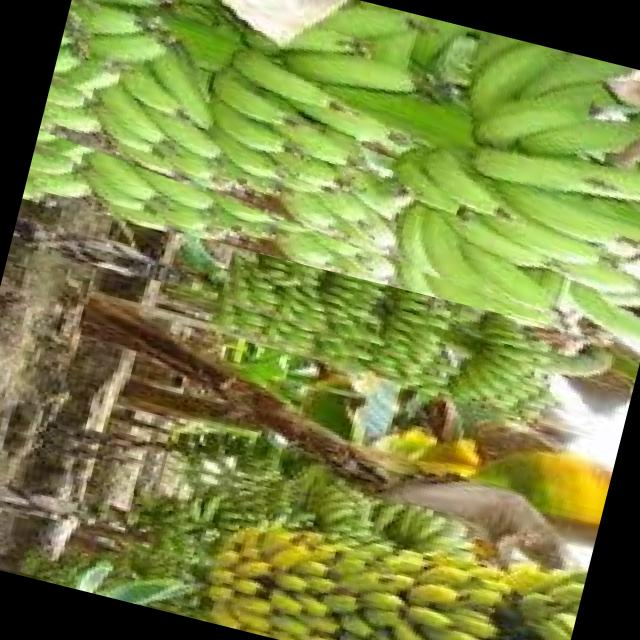Organic: (21, 0, 640, 353), (0, 403, 590, 640), (209, 246, 639, 430)
